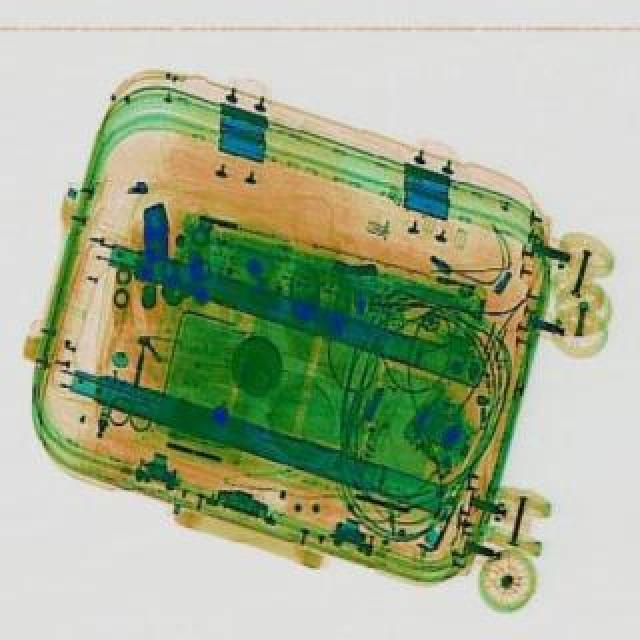pliers: (106, 336, 166, 430)
